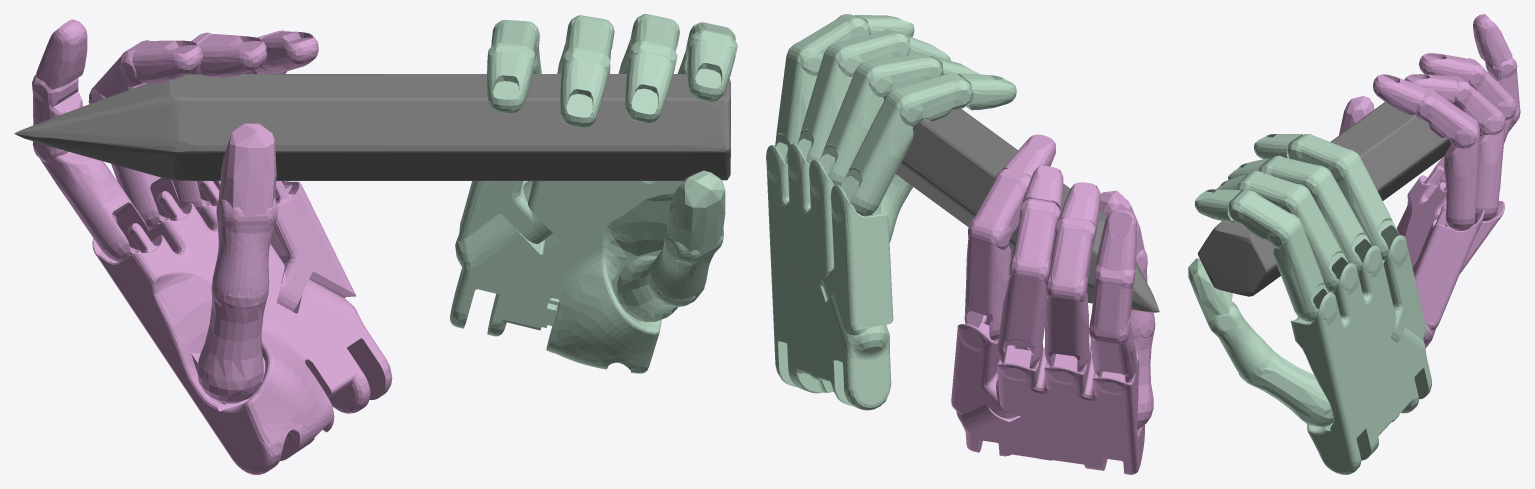
File: Pencil.glb
3 renders of one model, left to right at view 1: azimuth 30°, elevation 25°; view 2: azimuth 150°, elevation 25°; view 3: azimuth 270°, elevation 25°, orthographic. The views are drawn at different scales.
Visible parts, largest first — view 1: world; view 2: world; view 3: world.
Boxes of the visible parts, x1=… form: world: x1=14, y1=14, x2=737, y2=474; world: x1=766, y1=14, x2=1159, y2=474; world: x1=1188, y1=14, x2=1520, y2=474.
Size of the model in its own units: 0.2578 by 0.1699 by 0.1741.
